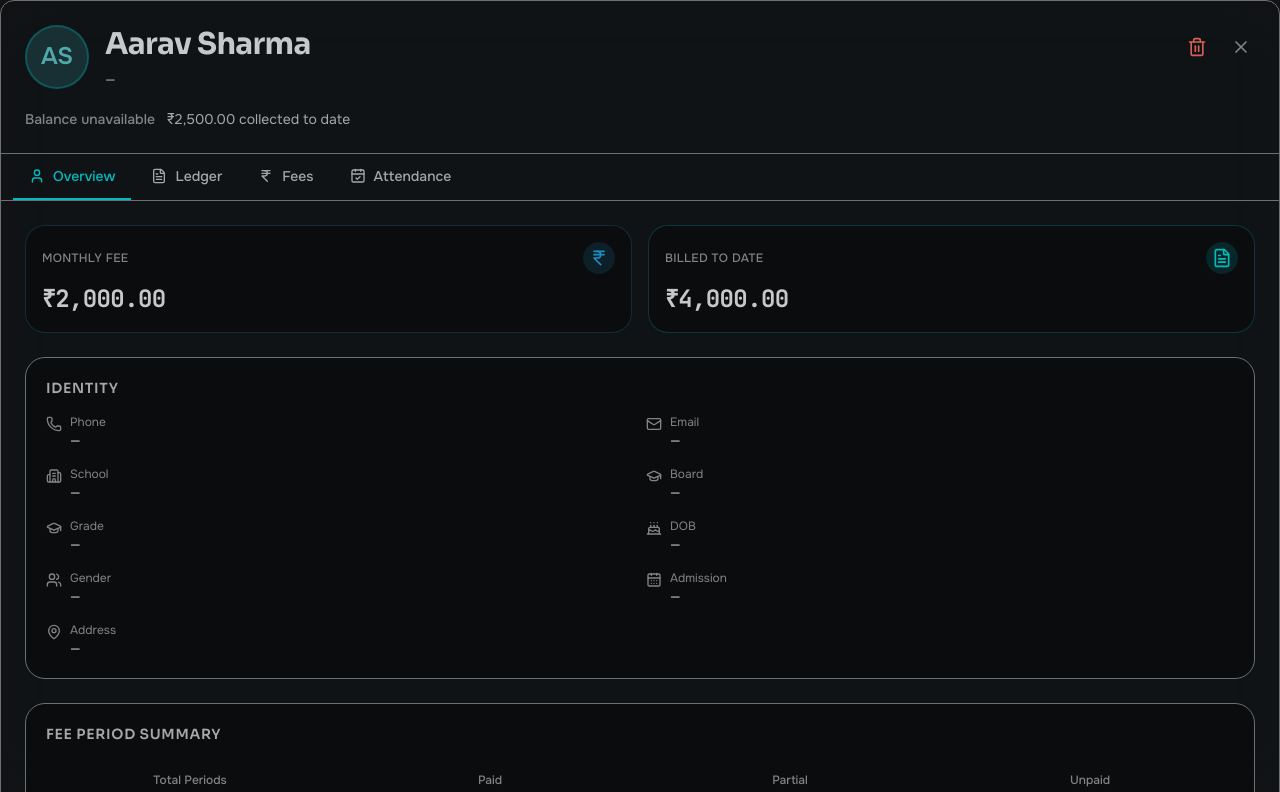
Scenario: every drawer tab renders content, and points at its own panel (13 §10.4) › renders the Fees tab from the invoices it was given
Check: the heading "Aarav Sharma" is shown, box left=105, top=25, right=311, bottom=65
Click the tab "Fees". click: (286, 177)
box: left=242, top=154, right=330, bottom=200
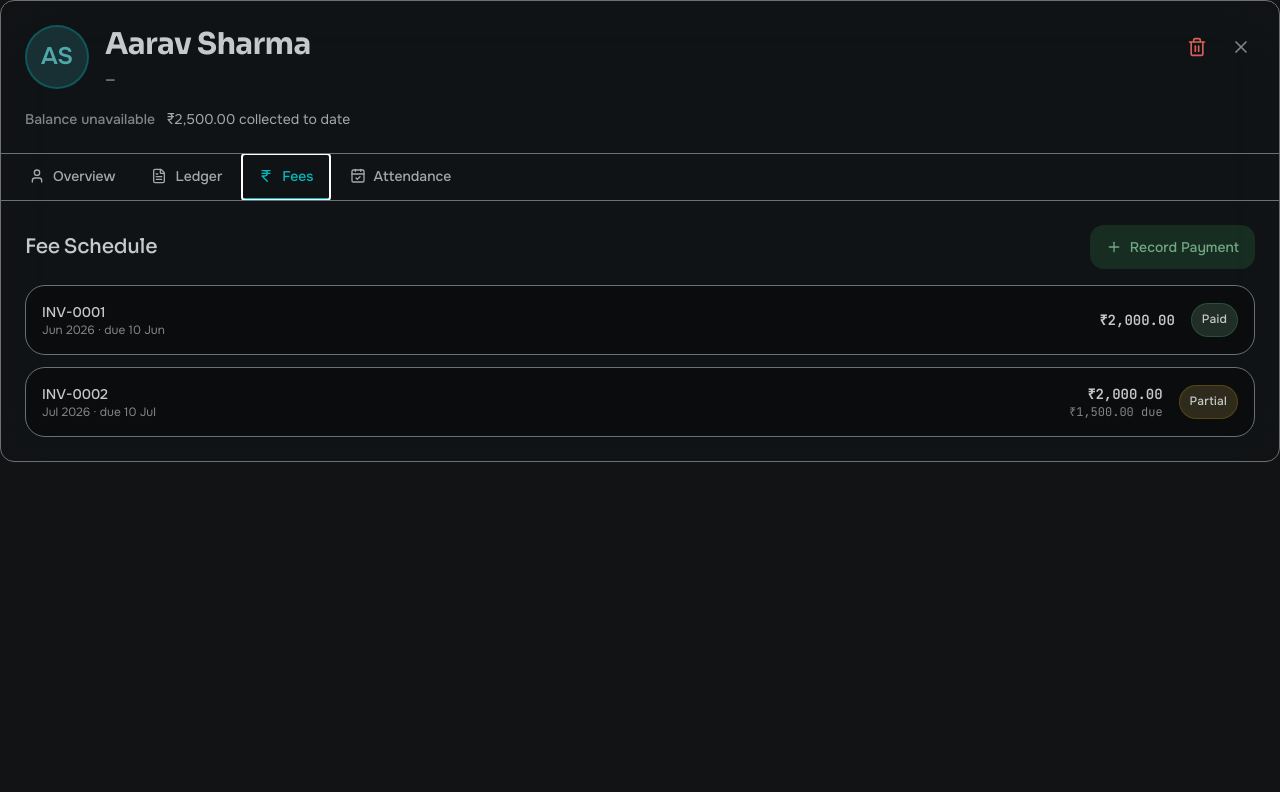
Check: the text "INV-0001" is shown, box left=42, top=303, right=106, bottom=321
Check: the text "INV-0002" is shown, box left=42, top=385, right=108, bottom=403
Check: the text "₹2,000.00" is shown 2 times, box left=1100, top=310, right=1175, bottom=330; left=1087, top=385, right=1163, bottom=403
